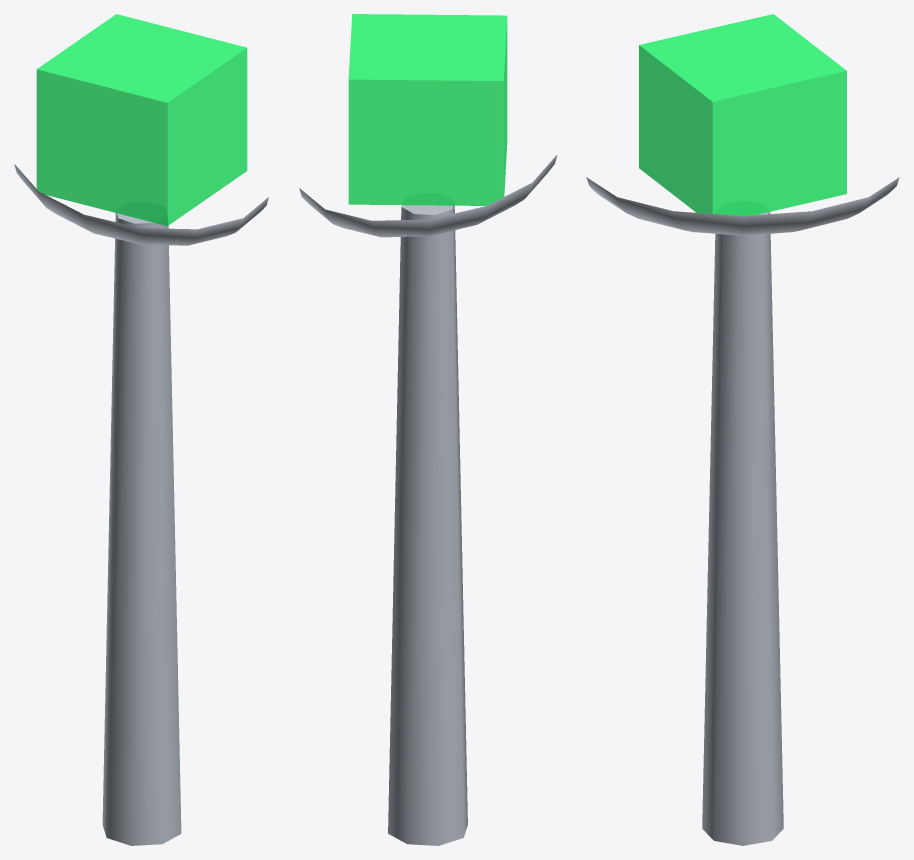
The model's file is gag_spoon.glb.
The picture shows the model from 3 angles, left to right: view 1: azimuth 30°, elevation 25°; view 2: azimuth 150°, elevation 25°; view 3: azimuth 270°, elevation 25°; orthographic projection.
Visible parts, largest first — view 1: gag_spoon, jelly; view 2: gag_spoon, jelly; view 3: gag_spoon, jelly.
Part boxes in pixels (x1=…): gag_spoon: x1=14, y1=164, x2=268, y2=845; jelly: x1=36, y1=14, x2=247, y2=225; gag_spoon: x1=299, y1=154, x2=557, y2=845; jelly: x1=348, y1=14, x2=507, y2=205; gag_spoon: x1=586, y1=177, x2=899, y2=845; jelly: x1=639, y1=14, x2=846, y2=215.
Bounding box in the file's own units: 0.07 × 0.25 × 0.0921.
